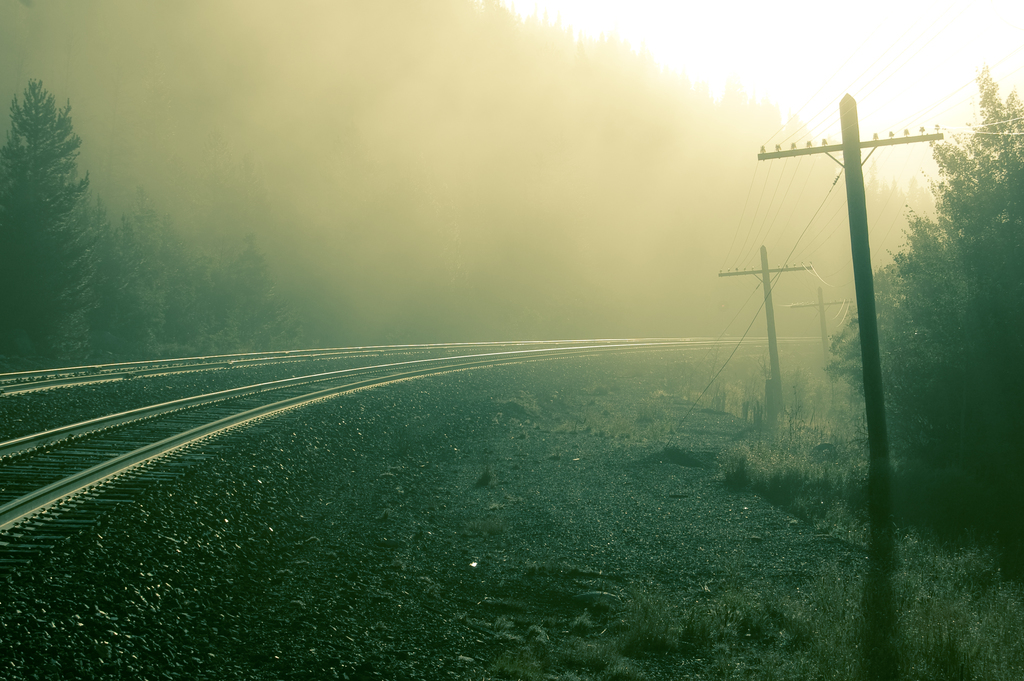Tree: (823, 62, 1024, 474), (0, 74, 301, 348)
